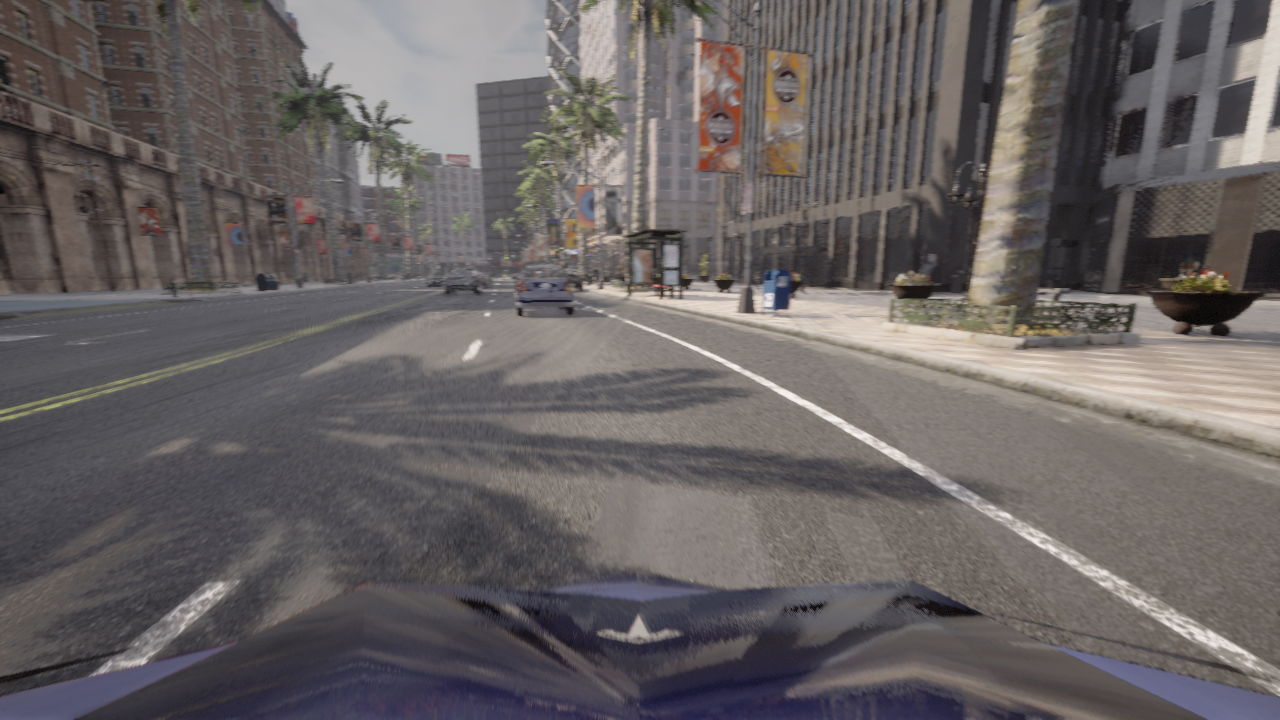cyclist: (0, 569, 1279, 719), (512, 262, 574, 315), (444, 266, 481, 294), (565, 269, 583, 291), (427, 271, 447, 286), (475, 270, 491, 287), (474, 262, 491, 278)
pedestrian: (616, 262, 625, 280), (592, 264, 599, 285)
